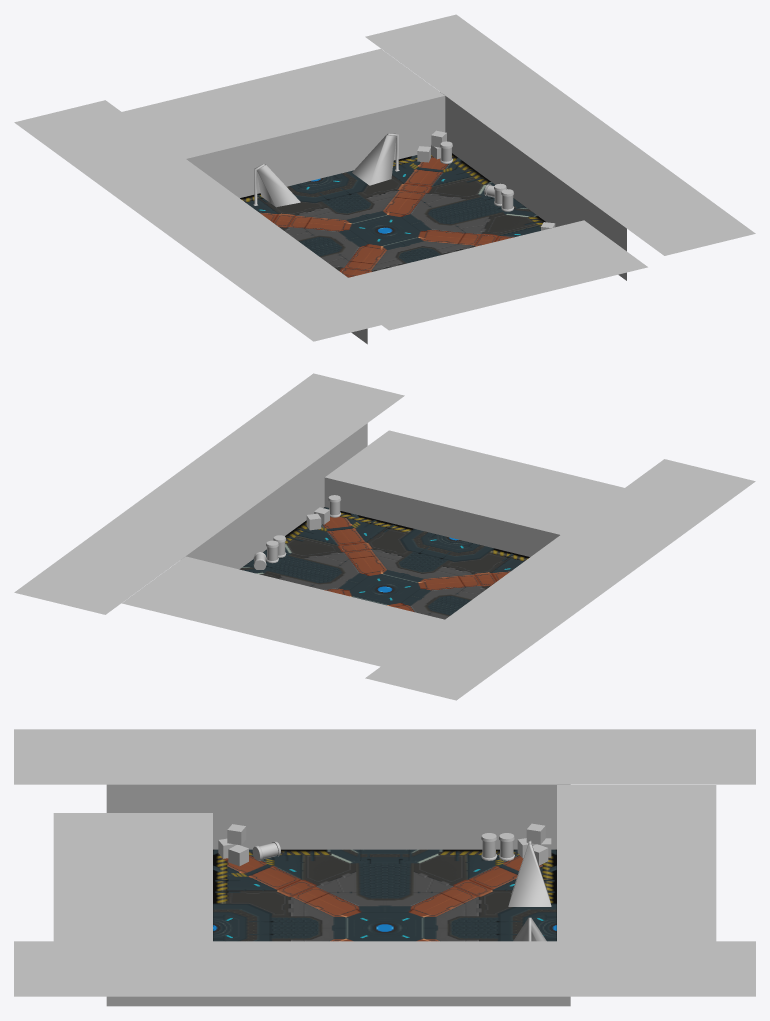
The model's file is last background.FBX.
The picture shows the model from 3 angles, top to bottom: view 1: azimuth 30°, elevation 25°; view 2: azimuth 150°, elevation 25°; view 3: azimuth 270°, elevation 25°; orthographic projection. The views are drawn at different scales.
Parts seen in each view (by area): view 1: Object023, Plane009, Mesh017; view 2: Object023, Plane009; view 3: Object023, Plane009, Mesh017.
Boxes of the visible parts, <box> form: Object023: <box>14,14,755,344</box>; Plane009: <box>240,153,545,277</box>; Mesh017: <box>257,134,396,207</box>; Object023: <box>14,373,755,700</box>; Plane009: <box>239,507,529,619</box>; Object023: <box>14,729,755,1006</box>; Plane009: <box>213,849,556,941</box>; Mesh017: <box>508,843,551,941</box>.
Size of the model in its own units: 4720 by 5535 by 607.
